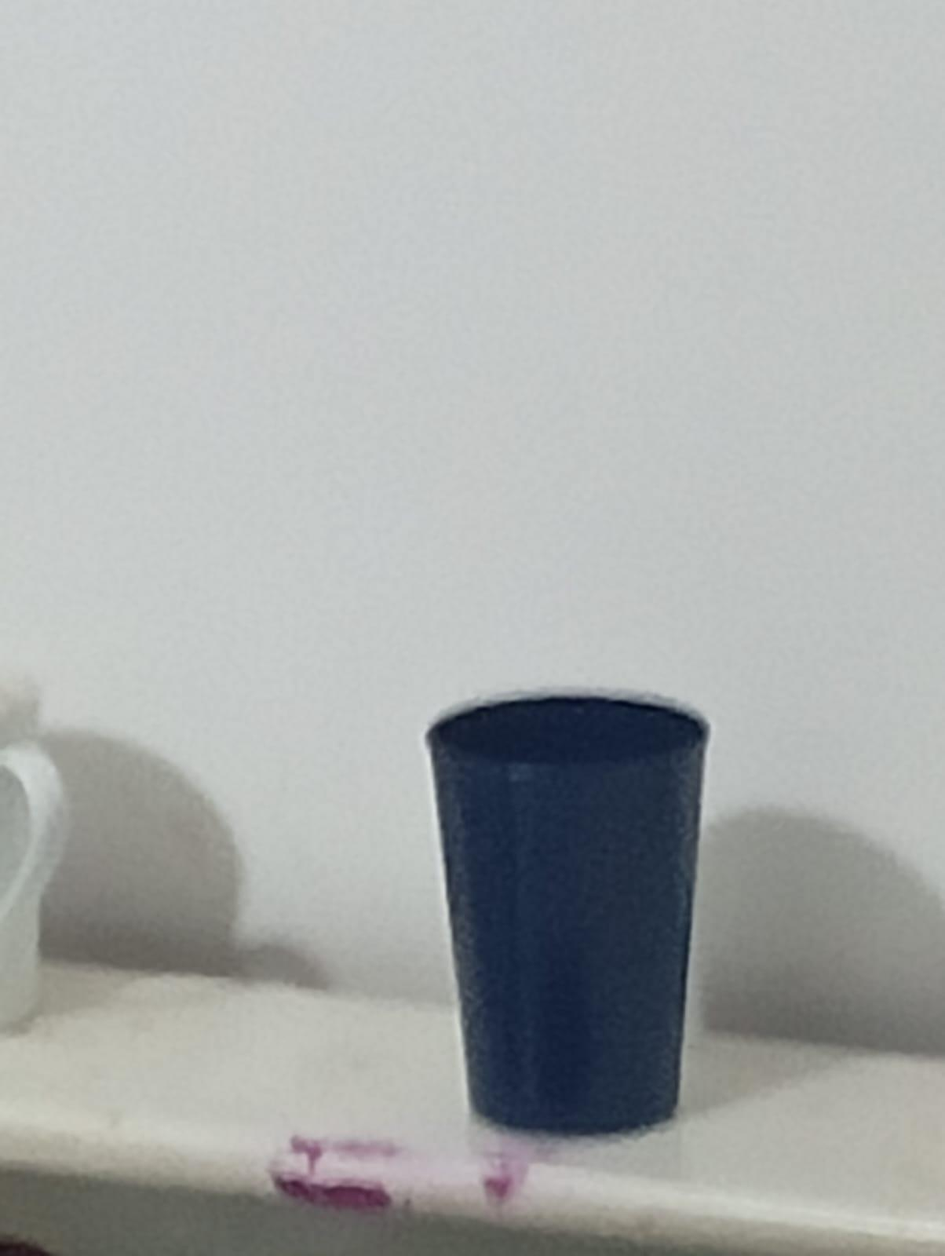cup: (428, 695, 707, 1133), (0, 677, 67, 1029)
